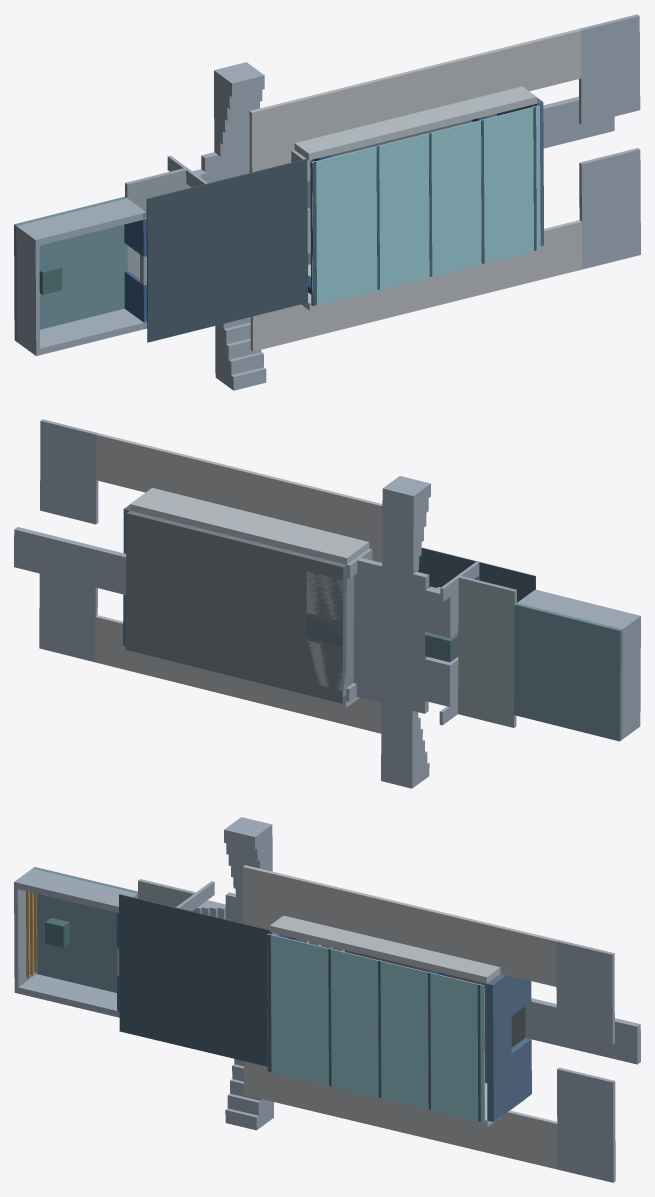
File: interior.obj
3 views of the same model, one above another, from view 1: azimuth 30°, elevation 25°; view 2: azimuth 150°, elevation 25°; view 3: azimuth 330°, elevation 25° (orthographic). The views are drawn at different scales.
Visible parts, largest first — view 1: glass_roof, shop_approach_roof, north_gallery, south_gallery, shop_floor, east_court_south, east_court_north, north_hall_wall, west_gallery, shop_north_wall, shop_back_wall, shop_south_wall (+16 smaller); view 2: lower_hall_floor, shop_floor, north_gallery, first_lobby_floor, shop_approach_floor, north_hall_wall, south_gallery, east_court_north, entry_vestibule_floor, east_court_south, shop_approach_roof, shop_back_wall (+19 smaller); view 3: glass_roof, shop_approach_roof, north_gallery, south_gallery, shop_floor, east_court_south, east_court_north, north_hall_wall, west_gallery, entry_vestibule_floor, east_wall_south, shop_north_wall (+14 smaller).
Part boxes in pixels (<box>): glass_roof: <box>311,105,540,305</box>; shop_approach_roof: <box>146,159,307,342</box>; north_gallery: <box>292,29,581,142</box>; south_gallery: <box>295,220,582,340</box>; shop_floor: <box>14,196,127,341</box>; east_court_south: <box>579,148,640,269</box>; east_court_north: <box>578,14,640,124</box>; north_hall_wall: <box>294,86,536,160</box>; west_gallery: <box>249,100,295,351</box>; shop_north_wall: <box>16,198,146,245</box>; shop_back_wall: <box>16,226,39,355</box>; shop_south_wall: <box>17,308,147,354</box>; lower_hall_floor: <box>125,510,346,703</box>; shop_floor: <box>514,603,622,741</box>; north_gallery: <box>96,433,370,541</box>; first_lobby_floor: <box>353,557,429,713</box>; shop_approach_floor: <box>458,576,516,727</box>; north_hall_wall: <box>130,488,369,564</box>; south_gallery: <box>95,615,368,730</box>; east_court_north: <box>40,419,98,524</box>; entry_vestibule_floor: <box>14,527,126,594</box>; east_court_south: <box>39,573,97,662</box>; shop_approach_roof: <box>417,547,535,633</box>; shop_back_wall: <box>622,616,640,739</box>; glass_roof: <box>267,934,485,1122</box>; shop_approach_roof: <box>119,894,271,1066</box>; north_gallery: <box>283,874,557,986</box>; south_gallery: <box>284,1079,557,1169</box>; shop_floor: <box>32,867,137,992</box>; east_court_south: <box>557,1067,615,1182</box>; east_court_north: <box>556,940,614,1044</box>; north_hall_wall: <box>269,915,500,983</box>; west_gallery: <box>243,865,284,1104</box>; entry_vestibule_floor: <box>525,998,640,1064</box>; east_wall_south: <box>487,1038,531,1121</box>; shop_north_wall: <box>14,868,137,912</box>.
Size of the model in its own units: 180 by 85.85 by 23.8.
